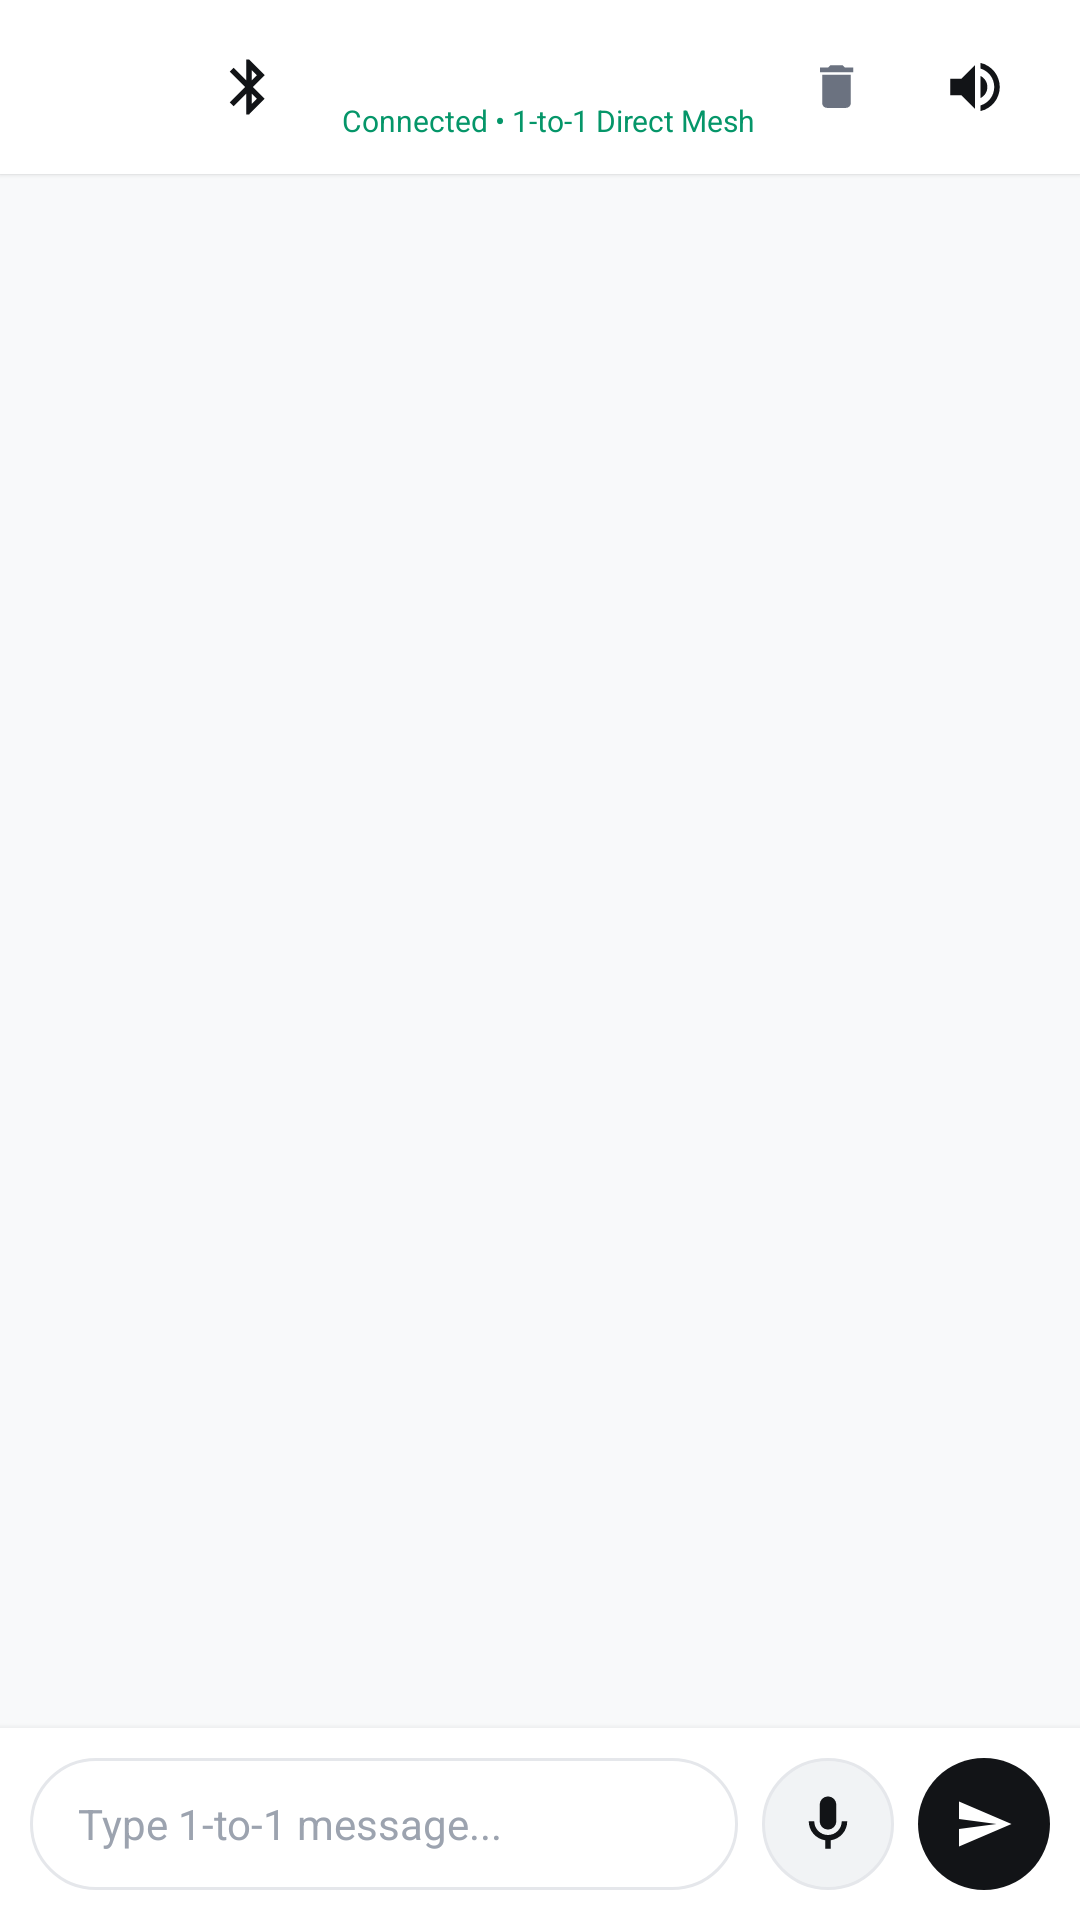

Where icons sit on this 1080px x 1920px app screen, as (left=x1, top=y1, right=x2, bottom=y2):
delete: (left=820, top=65, right=854, bottom=108)
mic: (left=808, top=1796, right=848, bottom=1849)
send: (left=959, top=1801, right=1011, bottom=1847)
volume up: (left=950, top=63, right=1000, bottom=111)
